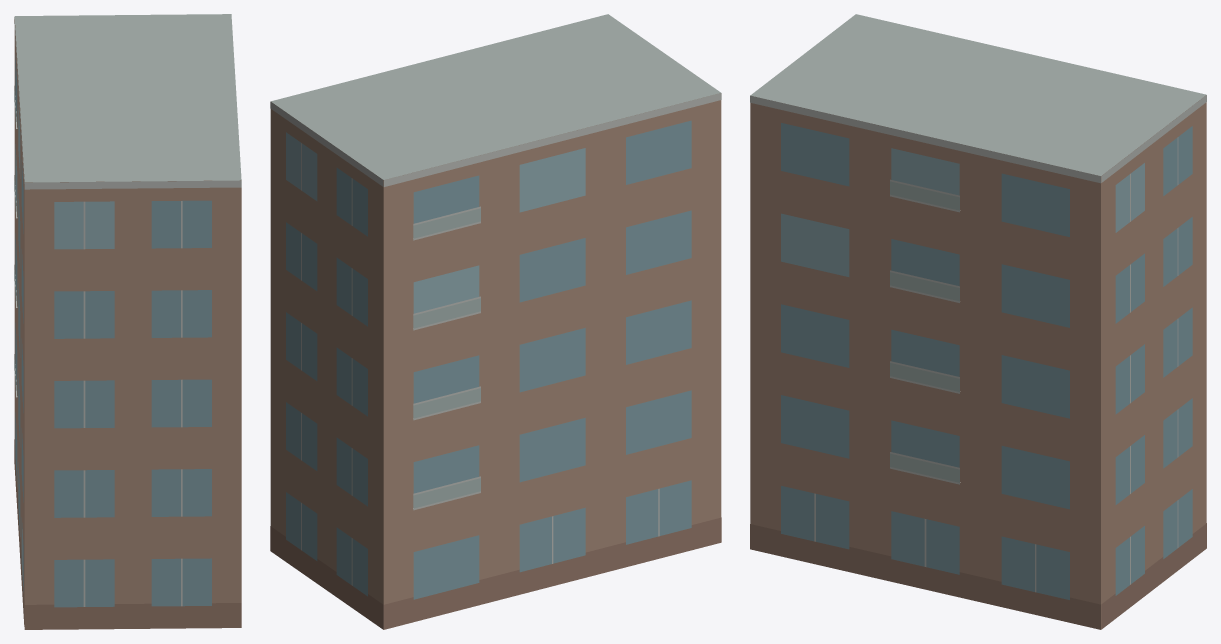
File: survey-upis-33021063.glb
3 renders of one model, left to right at view 1: azimuth 30°, elevation 25°; view 2: azimuth 150°, elevation 25°; view 3: azimuth 270°, elevation 25°, orthographic.
Visible parts, largest first — view 1: survey-upis-33021063.tmp; view 2: survey-upis-33021063.tmp; view 3: survey-upis-33021063.tmp.
Part boxes in pixels (<box>): survey-upis-33021063.tmp: <box>14,14,241,629</box>; survey-upis-33021063.tmp: <box>270,14,721,629</box>; survey-upis-33021063.tmp: <box>750,14,1206,629</box>.
Bounding box in the file's own units: 11.81 × 15.4 × 14.06.
